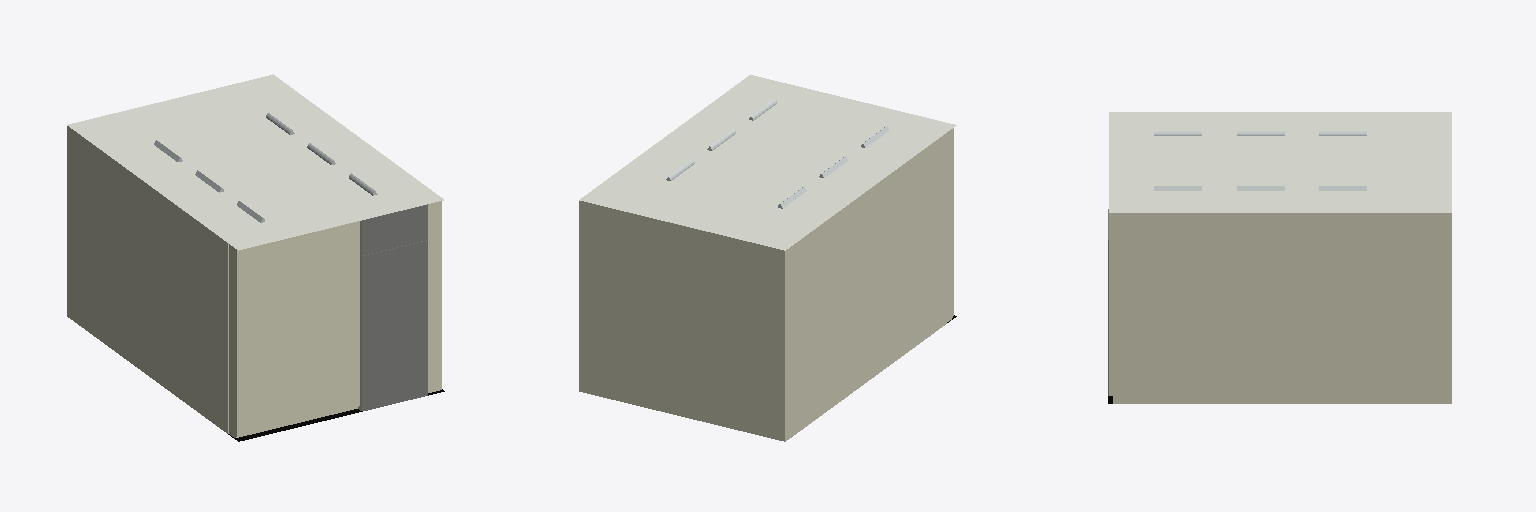
File: PerceptionLab.obj
The picture shows the model from 3 angles: view 1: azimuth 30°, elevation 25°; view 2: azimuth 150°, elevation 25°; view 3: azimuth 270°, elevation 25°; orthographic projection.
Visible parts, largest first — view 1: Mesh8 Group6 Model, Mesh7 Group8 Group6 Model, Mesh6 Group7 Group6 Model; view 2: Mesh8 Group6 Model, Mesh7 Group8 Group6 Model; view 3: Mesh8 Group6 Model, Mesh7 Group8 Group6 Model.
Part boxes in pixels (x1,y1,x2,y2): Mesh8 Group6 Model: (67,126,441,437); Mesh7 Group8 Group6 Model: (67,74,443,250); Mesh6 Group7 Group6 Model: (228,389,444,441); Mesh8 Group6 Model: (579,128,953,441); Mesh7 Group8 Group6 Model: (579,75,956,250); Mesh8 Group6 Model: (1108,209,1451,403); Mesh7 Group8 Group6 Model: (1109,112,1451,212).
Size of the model in its own units: 116 by 104 by 166.